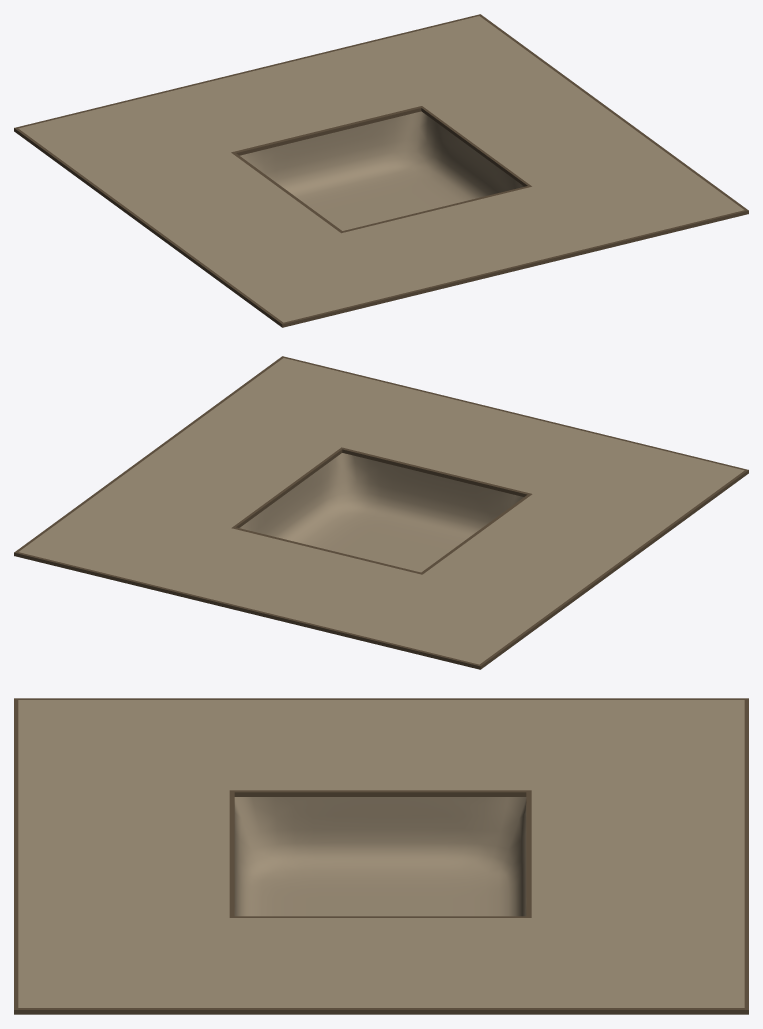
The model's file is Canvas.fbx.
The picture shows the model from 3 angles, top to bottom: view 1: azimuth 30°, elevation 25°; view 2: azimuth 150°, elevation 25°; view 3: azimuth 270°, elevation 25°; orthographic projection. The views are drawn at different scales.
Parts seen in each view (by area): view 1: Canvas; view 2: Canvas; view 3: Canvas.
Part boxes in pixels (x1,y1,x2,y2): Canvas: [14, 14, 748, 327]; Canvas: [14, 356, 748, 669]; Canvas: [14, 698, 748, 1014].
Size of the model in its own units: 6056 by 625 by 6035.
